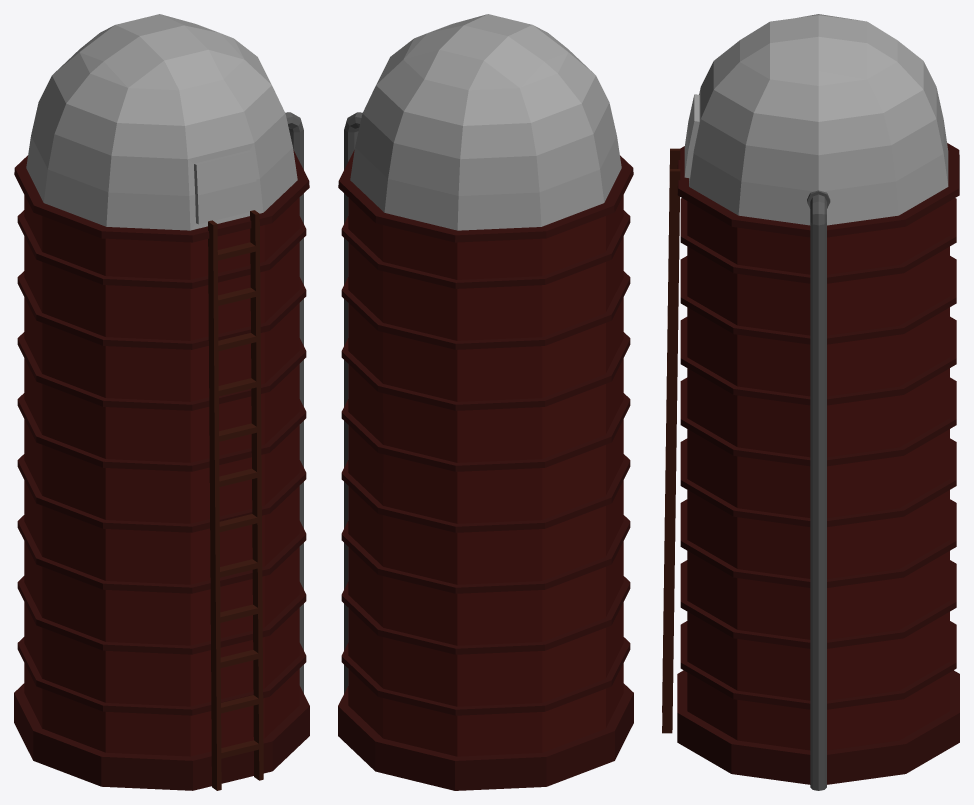
Rendered from Silo.fbx.
3 renders of one model, left to right at view 1: azimuth 30°, elevation 25°; view 2: azimuth 150°, elevation 25°; view 3: azimuth 270°, elevation 25°, orthographic.
Parts seen in each view (by area): view 1: Silo; view 2: Silo; view 3: Silo.
Boxes of the visible parts, bbox=[...] form: Silo: bbox=[14, 14, 309, 790]; Silo: bbox=[338, 14, 633, 790]; Silo: bbox=[662, 14, 959, 790].
Size of the model in its own units: 3.67 by 9.07 by 3.51.
